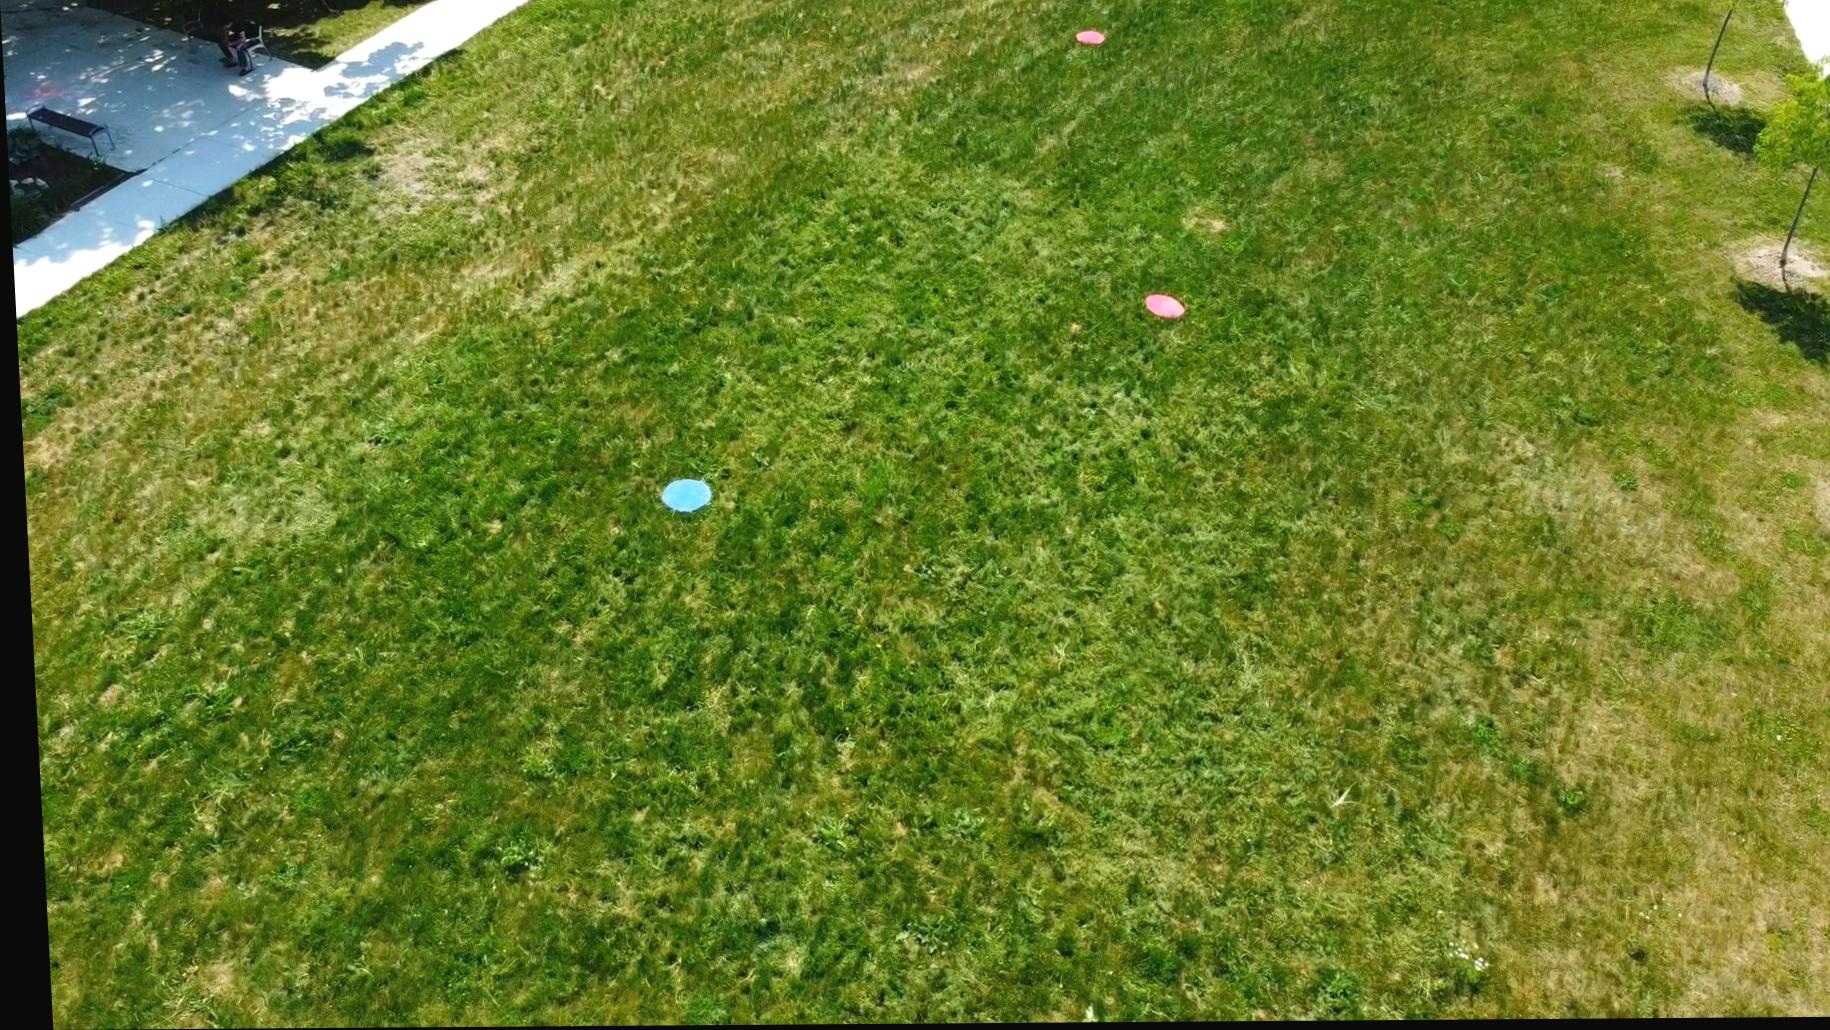Blue: (654, 477, 711, 516)
Red: (1140, 294, 1185, 322), (1073, 29, 1106, 49)
